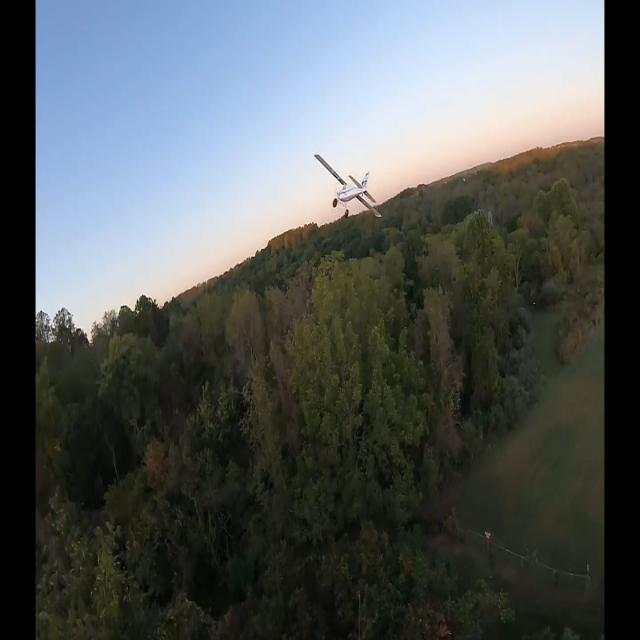iha: (346, 184, 350, 186)
